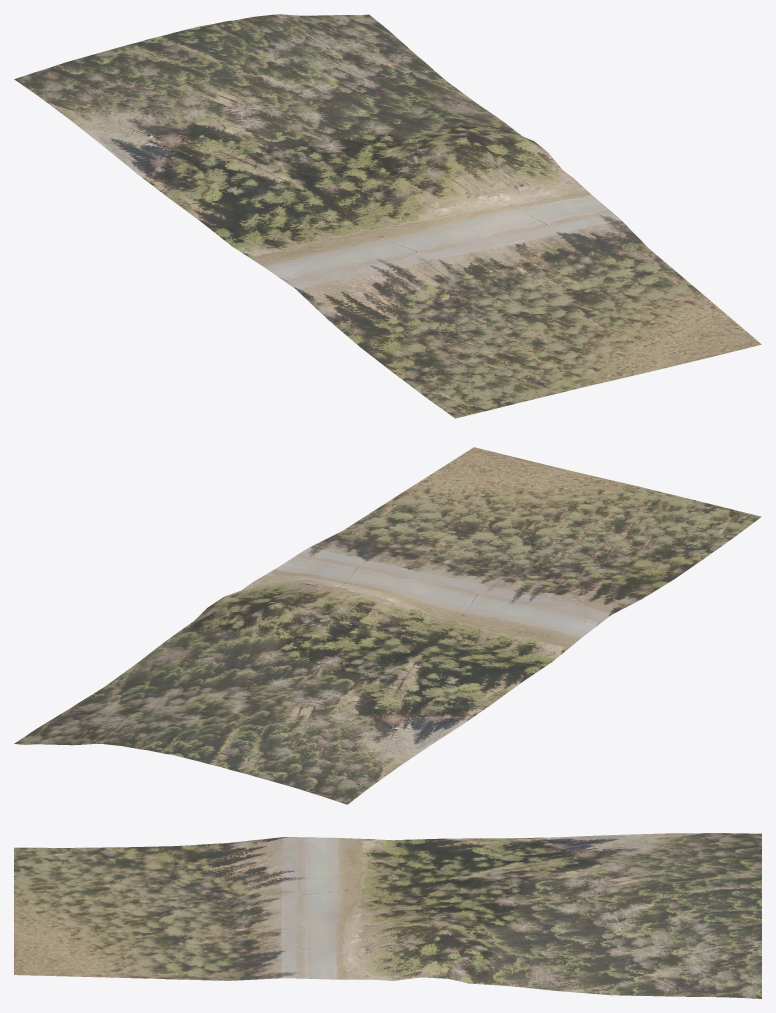
Rendered from CM_Terrain_24493940_6814879.fbx.
3 renders of one model, top to bottom at view 1: azimuth 30°, elevation 25°; view 2: azimuth 150°, elevation 25°; view 3: azimuth 270°, elevation 25°, orthographic. The views are drawn at different scales.
Visible parts, largest first — view 1: CM_Terrain_24493940_6814879_LOD0; view 2: CM_Terrain_24493940_6814879_LOD0; view 3: CM_Terrain_24493940_6814879_LOD0.
Boxes of the visible parts, bbox=[...] form: CM_Terrain_24493940_6814879_LOD0: bbox=[14, 14, 761, 418]; CM_Terrain_24493940_6814879_LOD0: bbox=[14, 447, 761, 804]; CM_Terrain_24493940_6814879_LOD0: bbox=[14, 833, 761, 998].
Size of what is drawn, in the model's own units: 95.11 by 8.74 by 205.
